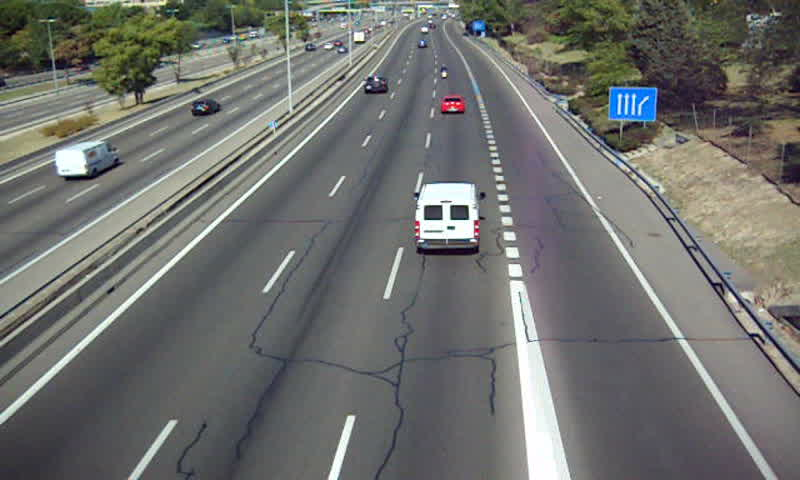car: (439, 95, 467, 116), (364, 76, 389, 93)
motorcycle: (438, 64, 450, 78)
van: (414, 183, 481, 249)
